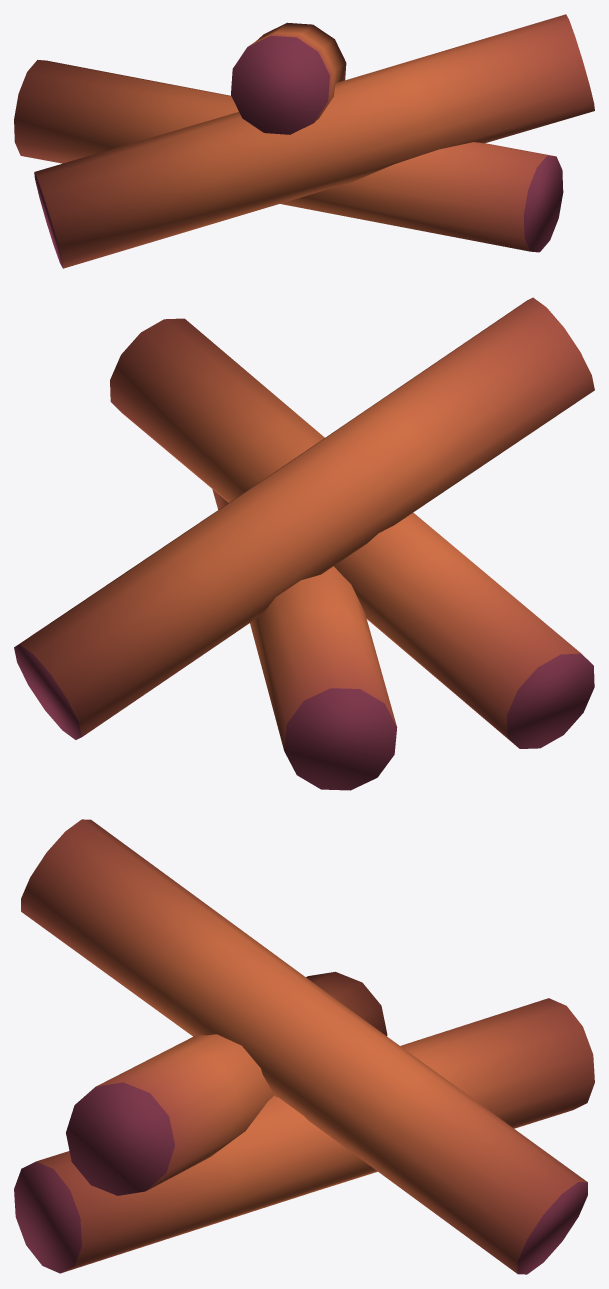
File: logs.glb
The picture shows the model from 3 angles, top to bottom: view 1: azimuth 30°, elevation 25°; view 2: azimuth 150°, elevation 25°; view 3: azimuth 270°, elevation 25°; orthographic projection. The views are drawn at different scales.
Visible parts, largest first — view 1: logs; view 2: logs; view 3: logs.
Part boxes in pixels (x1,y1,x2,y2): logs: (14,14,594,268); logs: (14,297,594,790); logs: (14,819,594,1274).
Size of the model in its own units: 0.9181 by 0.5248 by 0.8465.
Materials: 1 (1 with a texture image).
